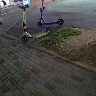beam: (36, 1, 66, 28)
gcooter: (16, 4, 54, 45)
